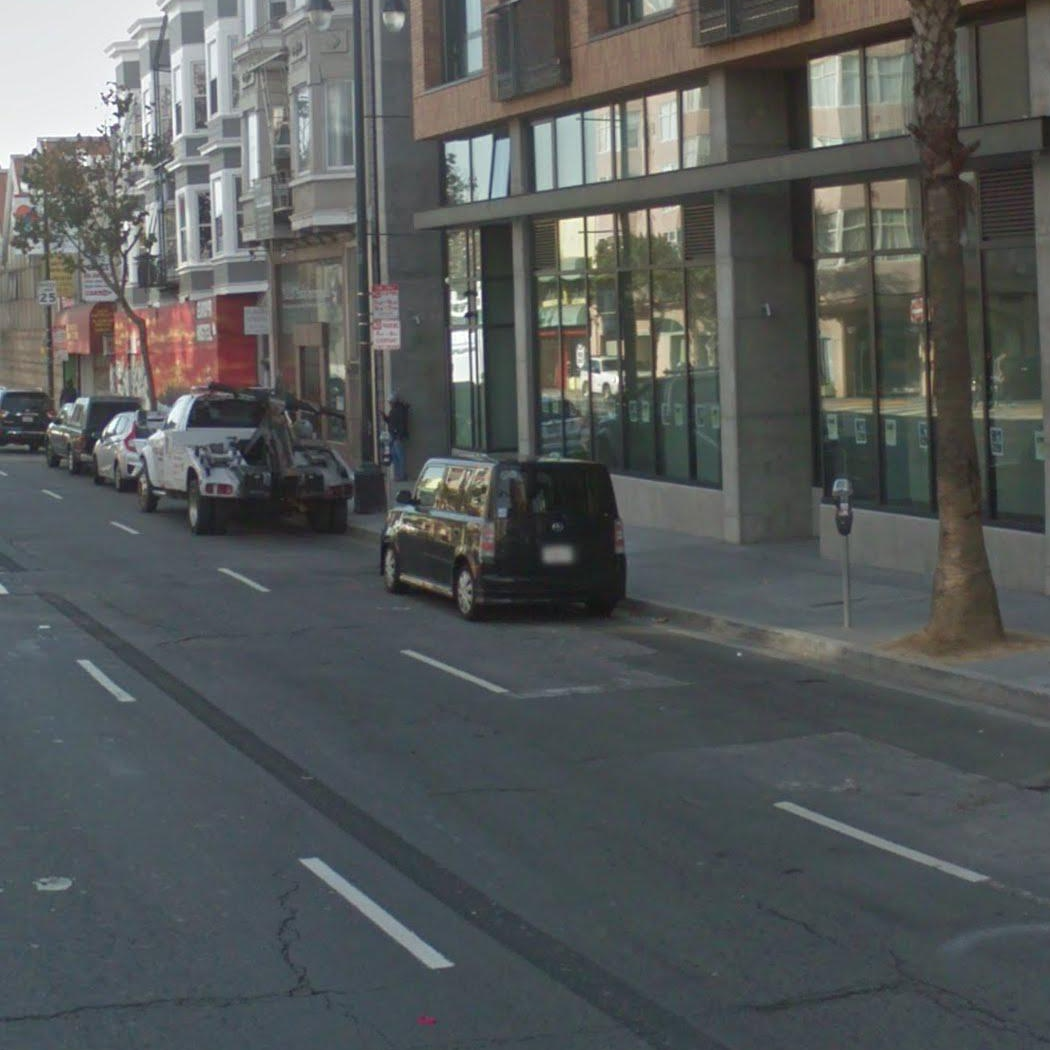No Parking: (371, 319, 401, 351)
